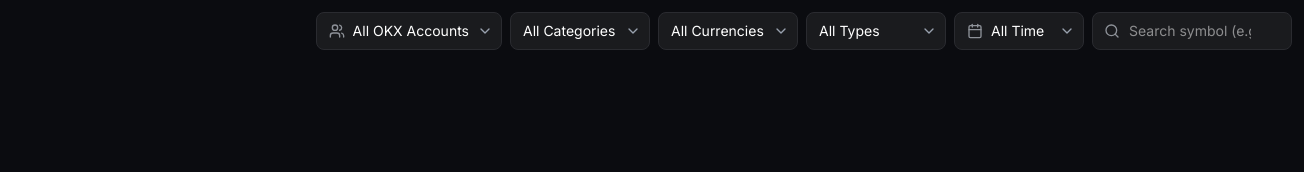
OKX transaction components (components/transactions/OkxTransactions) › OkxTransactionFilters › propagates the typed search term through setFilters
Type "BTC" into the field with placeholder "Search symbol (e.g. BTC, ETH)..." at {"x": 1192, "y": 31}, box [1092,12,1292,50]
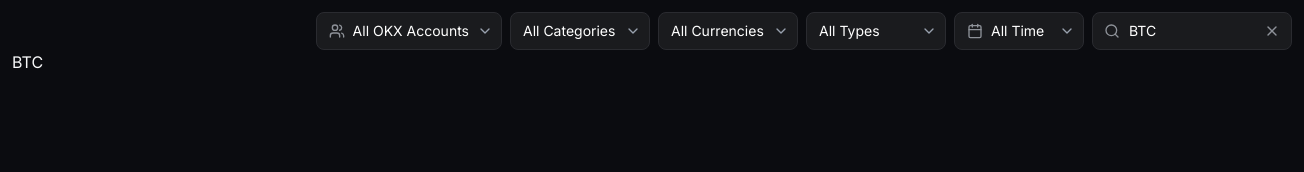
Result: the text with test id "filters-search" reads "BTC" at [12,52,43,72]
